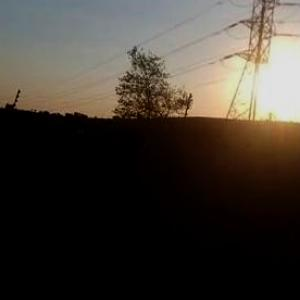follow: (77, 124, 147, 299)
